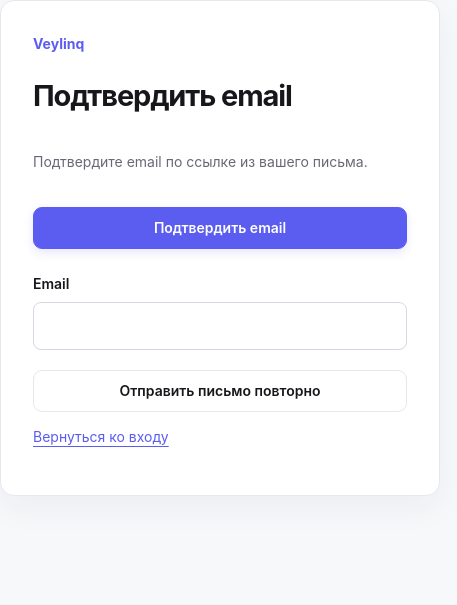
Test: shows safe rate_limited state and resend
Click the button "Подтвердить email" at x=220, y=228, box [33,207,407,249]
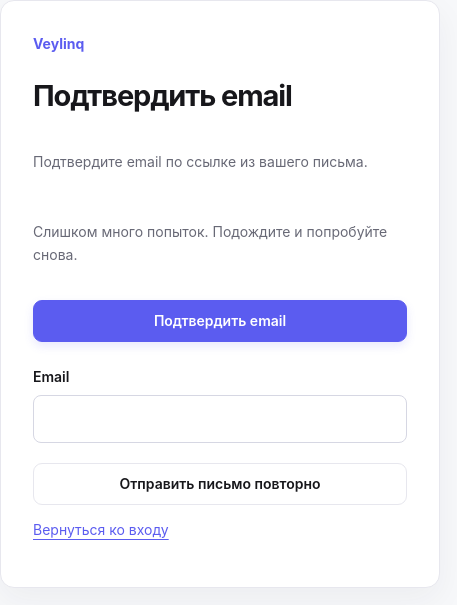
Check: the button "Отправить письмо повторно" is shown, box [33,463,407,505]
Check: the message "Слишком много попыток. Подождите и попробуйте снова." is shown, box [33,221,407,266]
